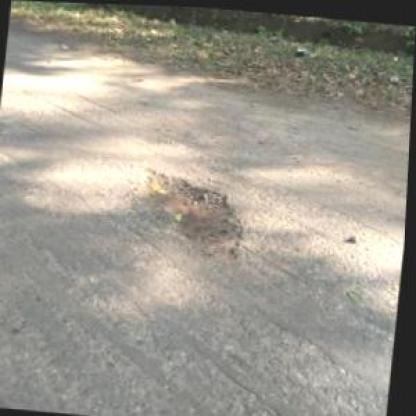pothole: (128, 161, 255, 262)
